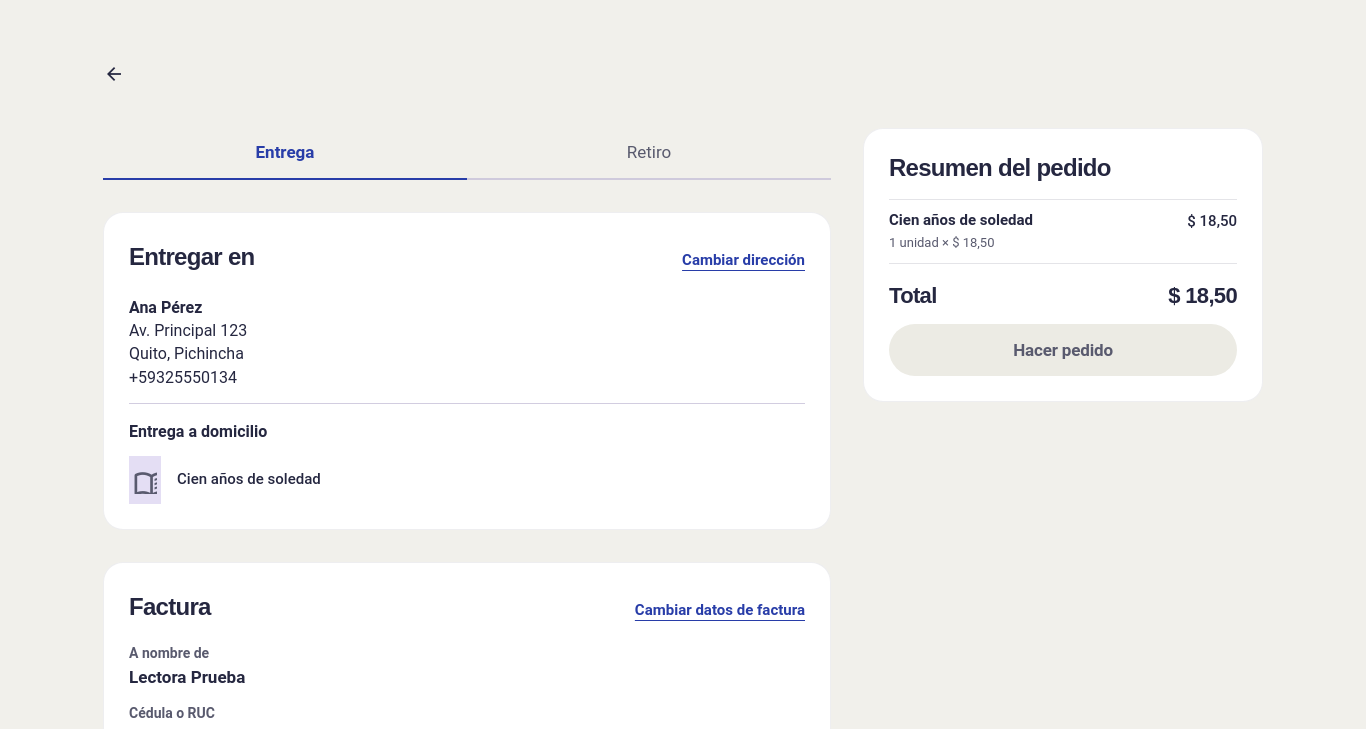
Test case: follows the delivery address when it changes
The image size is (1366, 729).
Click the button "Cambiar dirección".
click(744, 260)  # box [682, 238, 805, 282]
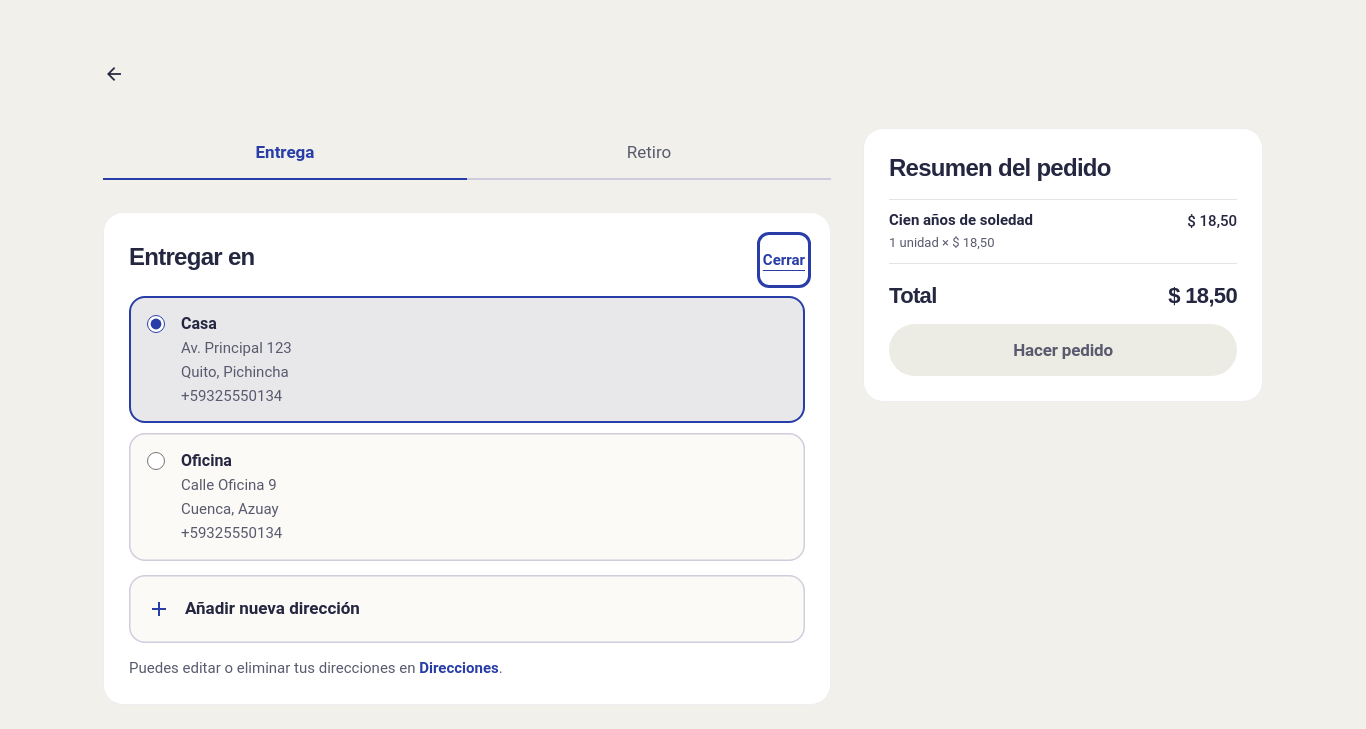
Click the radio button labelled "Oficina Calle Oficina 9 Cuenca, Azuay +59325550134".
click(156, 461)  # box [147, 452, 165, 470]
(page scrolled)
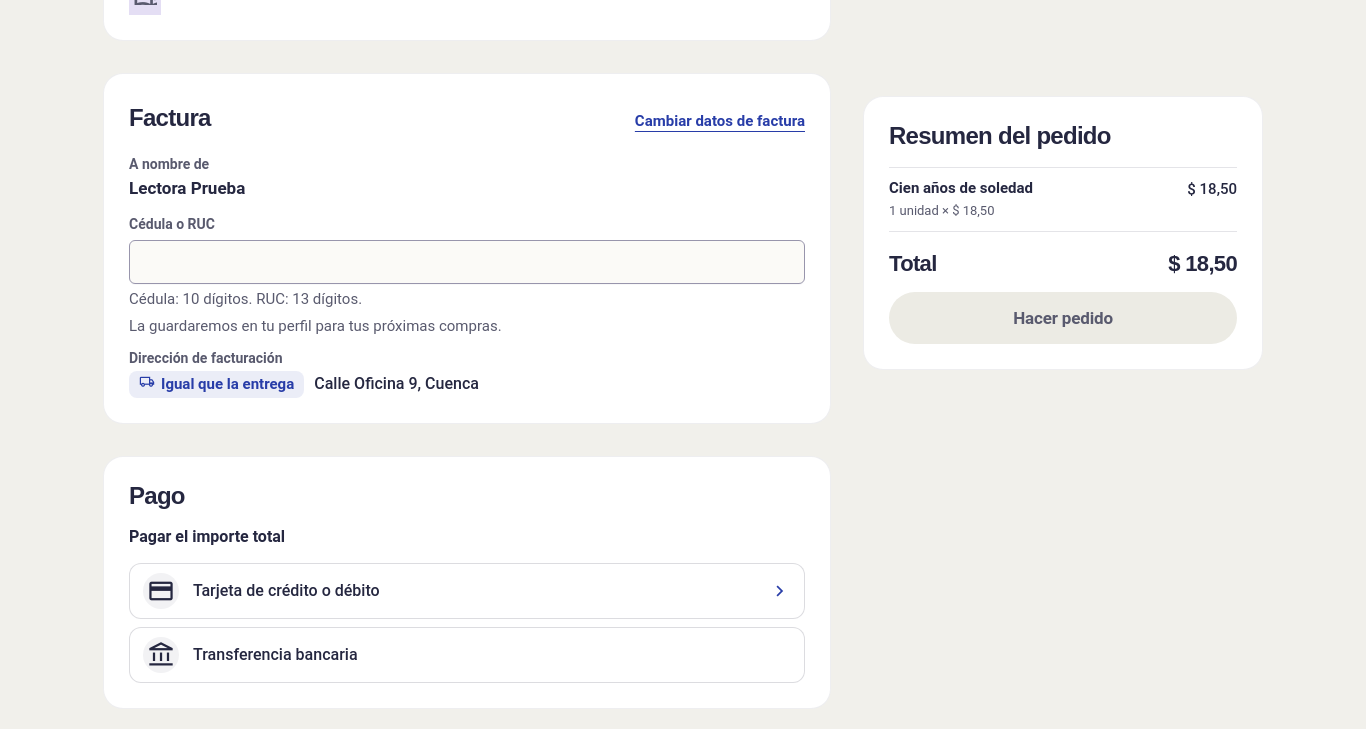
Expected: the text "Igual que la entrega" is shown, [129, 371, 304, 398]
Expected: the text "Calle Oficina 9, Cuenca" is shown, [314, 372, 479, 396]
